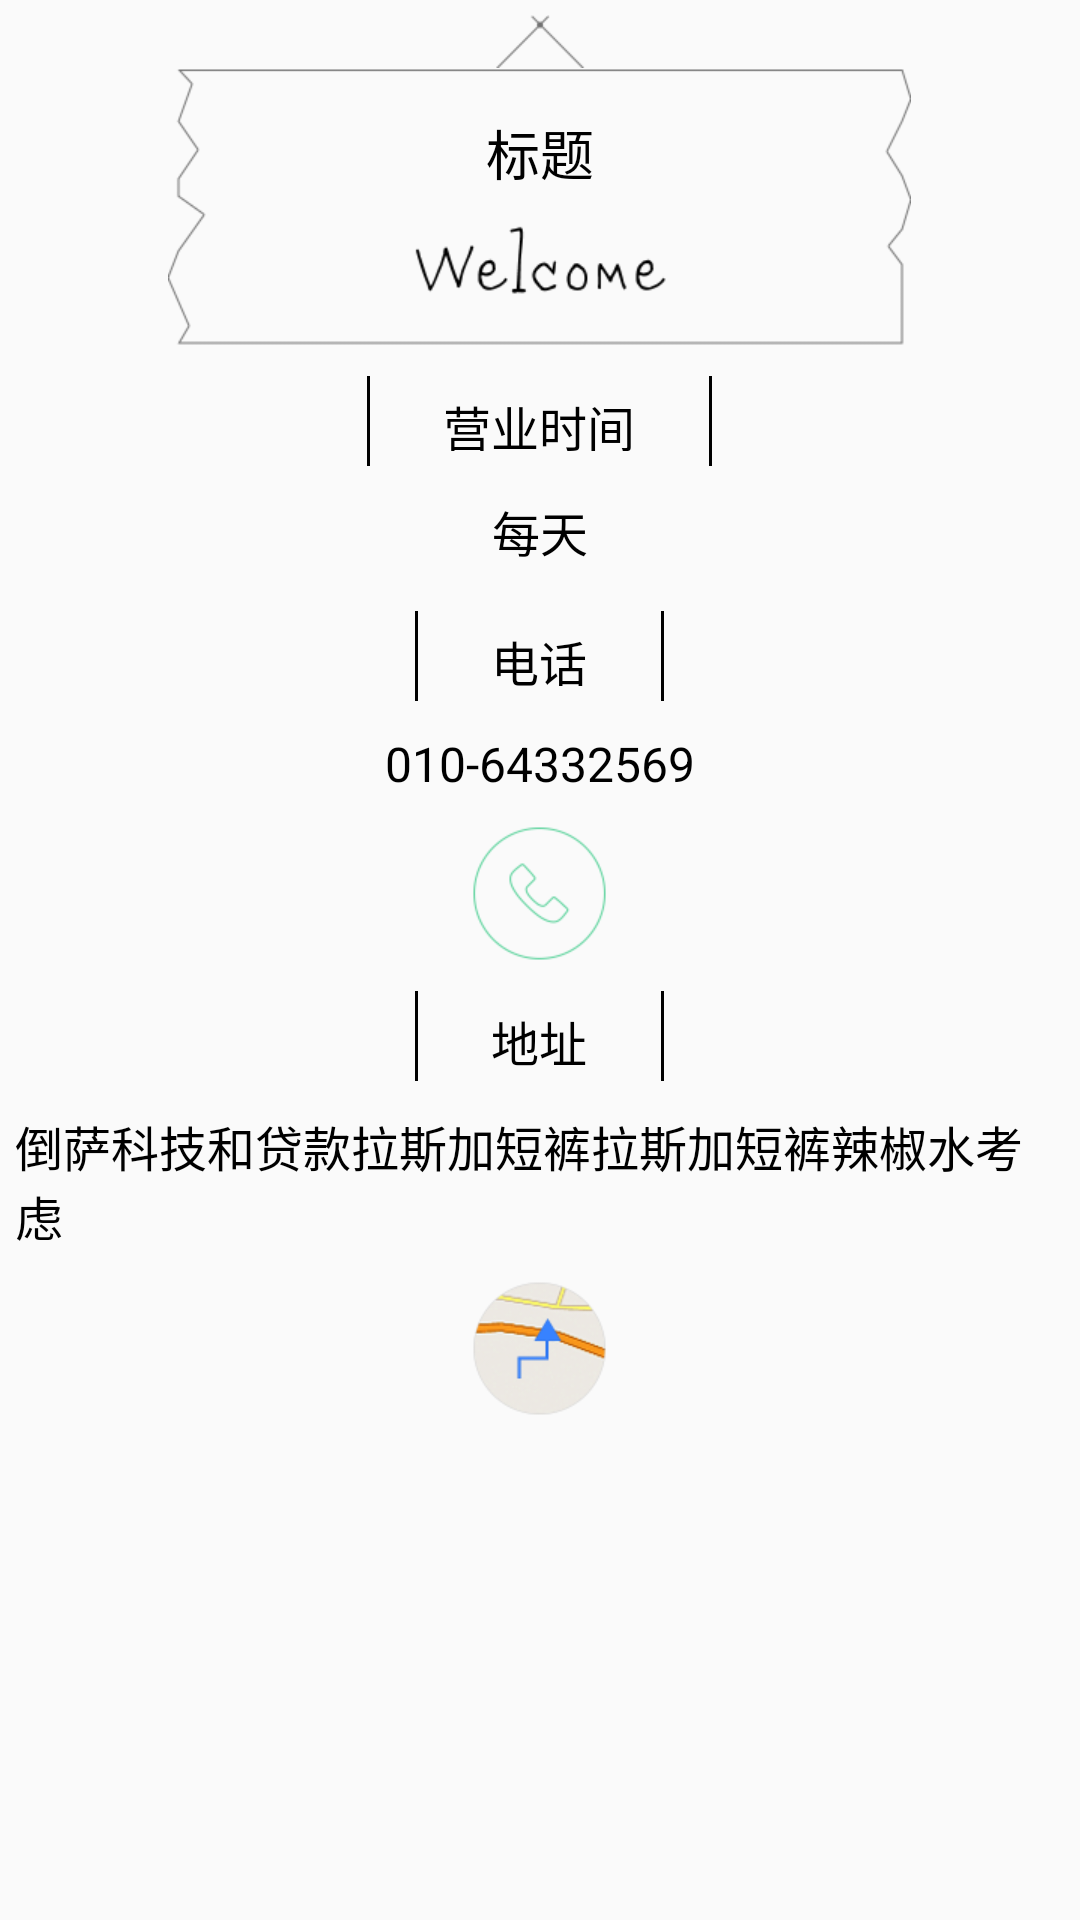

Icons on this 1080*1920 Android screen, each with the point to tap as point (x, y):
call: point (539, 893)
map: point (539, 1348)
